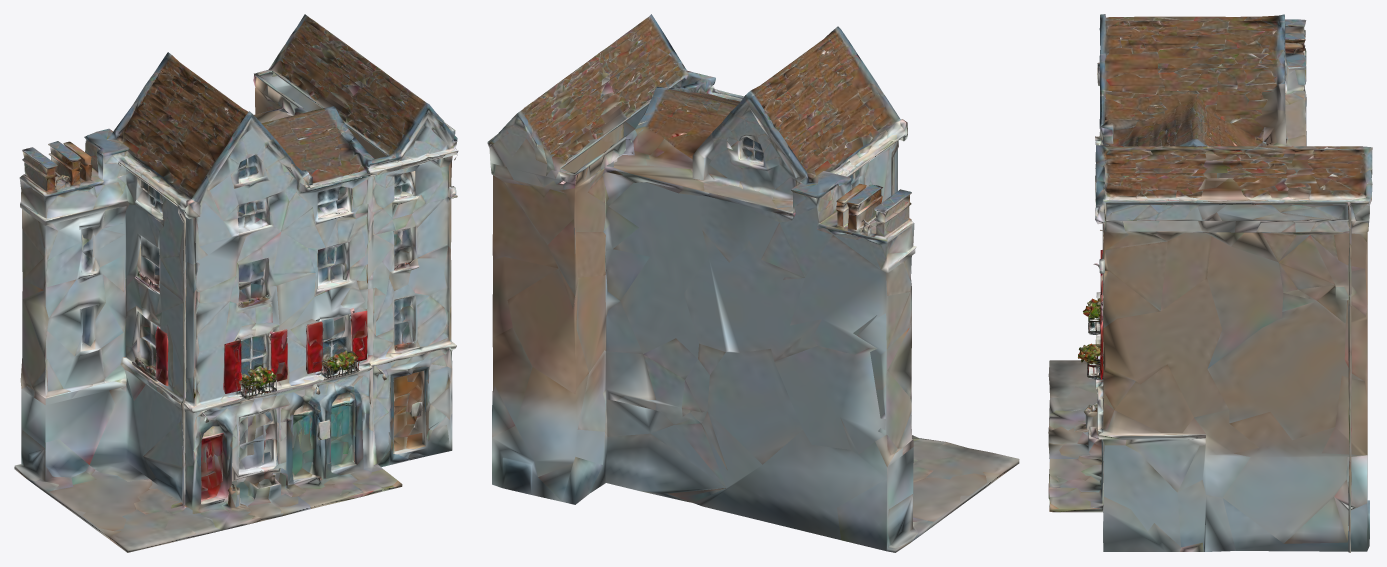
Rendered from house-blue.glb.
The picture shows the model from 3 angles, left to right: view 1: azimuth 30°, elevation 25°; view 2: azimuth 150°, elevation 25°; view 3: azimuth 270°, elevation 25°; orthographic projection. The views are drawn at different scales.
Bounding box in the file's own units: 1.82 × 1.9 × 1.3.
Materials: 1 (1 with a texture image).
